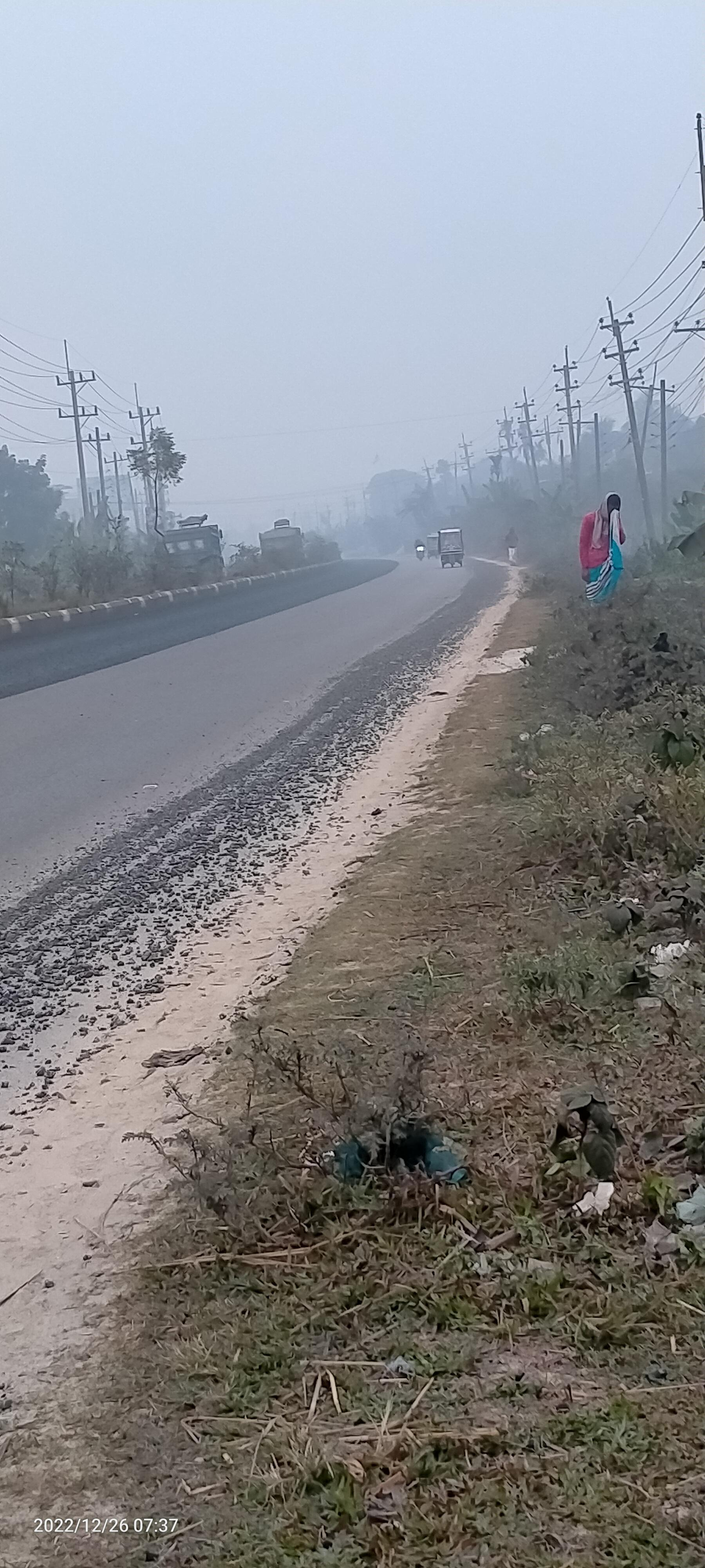Bike: (410, 538, 427, 562)
Car: (437, 526, 465, 575), (424, 529, 442, 559)
Truck: (158, 507, 228, 586), (253, 514, 313, 563)
